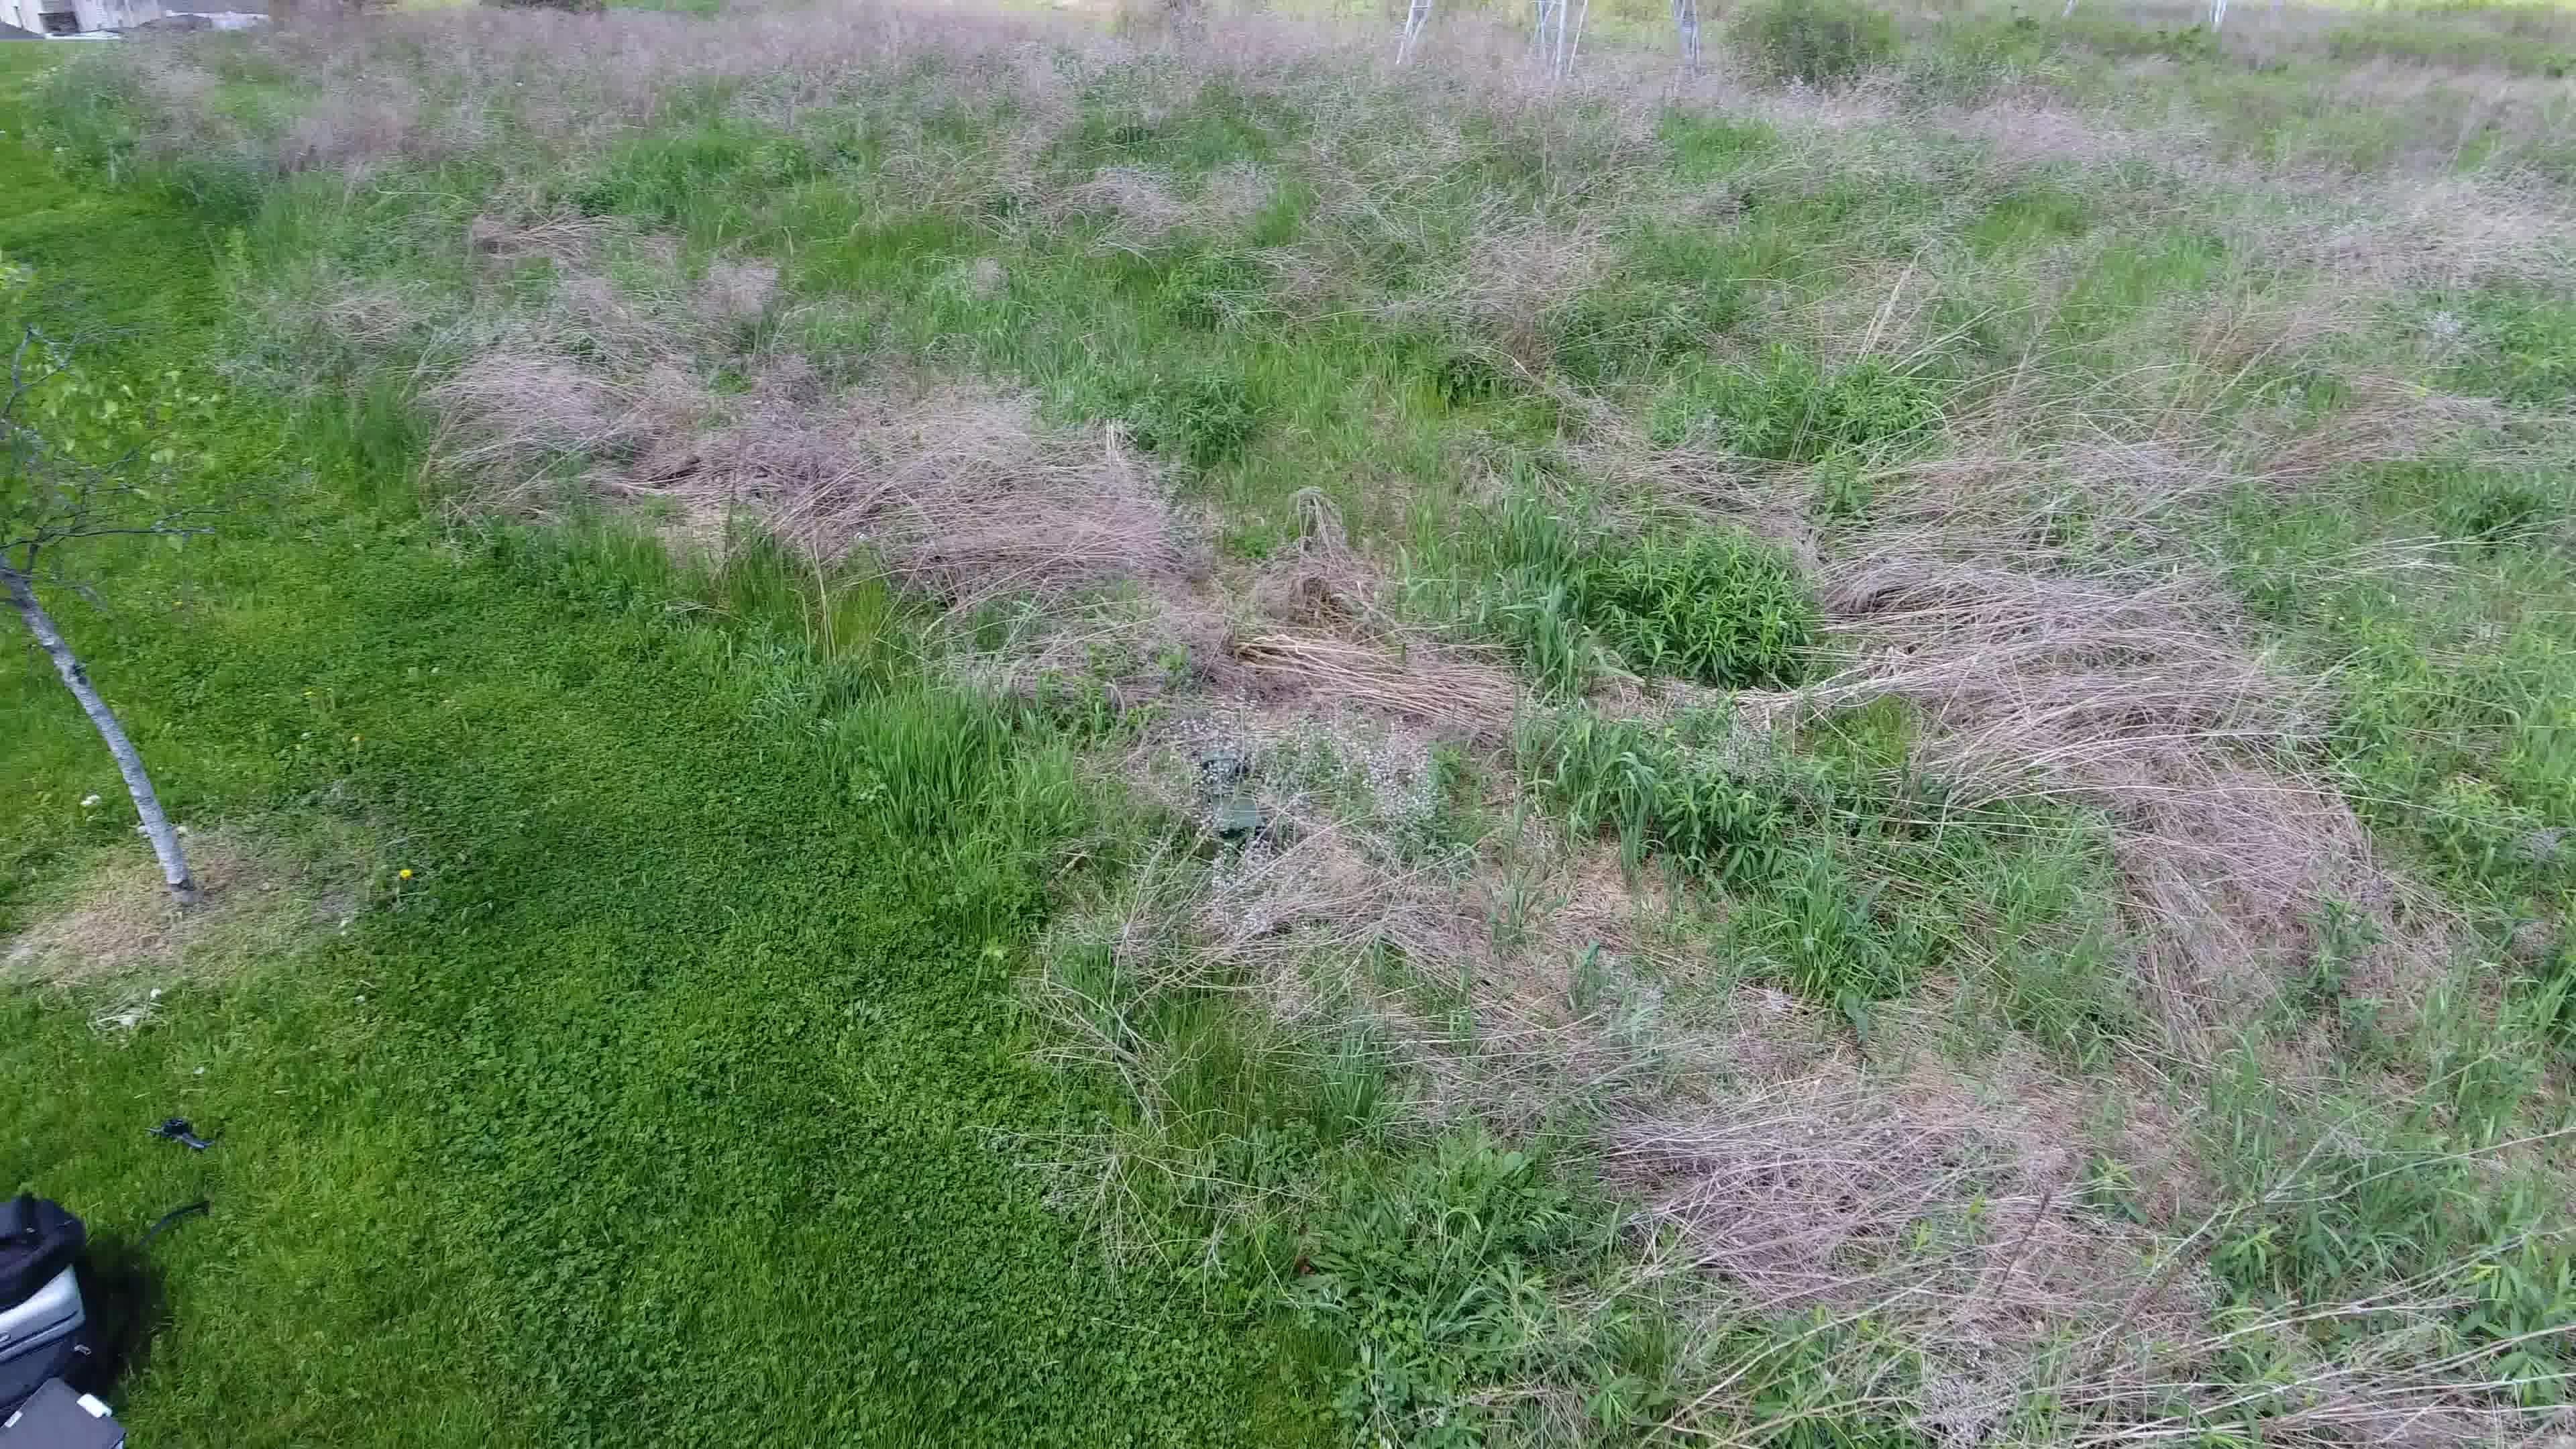transporter9: (1200, 740, 1267, 842)
